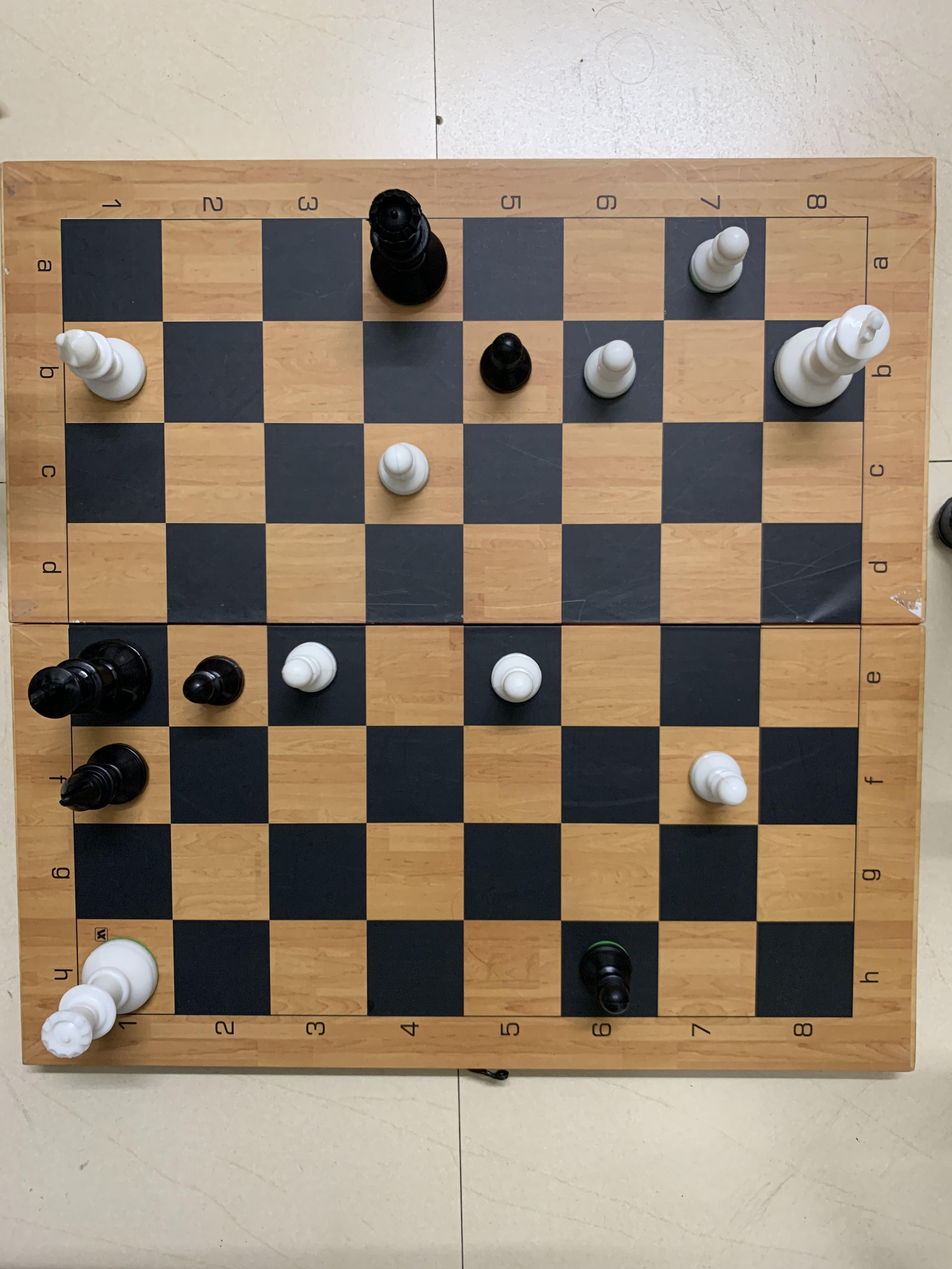black_king: (22, 632, 162, 733)
black_pawn: (571, 927, 642, 1019), (177, 645, 253, 720), (476, 327, 540, 398)
black_queen: (359, 184, 454, 320)
white_bishop: (41, 317, 165, 416), (48, 739, 161, 822)
white_king: (774, 299, 899, 421)
white_pawn: (681, 219, 757, 303), (683, 740, 755, 812), (576, 332, 642, 404), (483, 644, 552, 711), (375, 435, 437, 507), (278, 636, 343, 702)
white_queen: (37, 927, 169, 1065)
